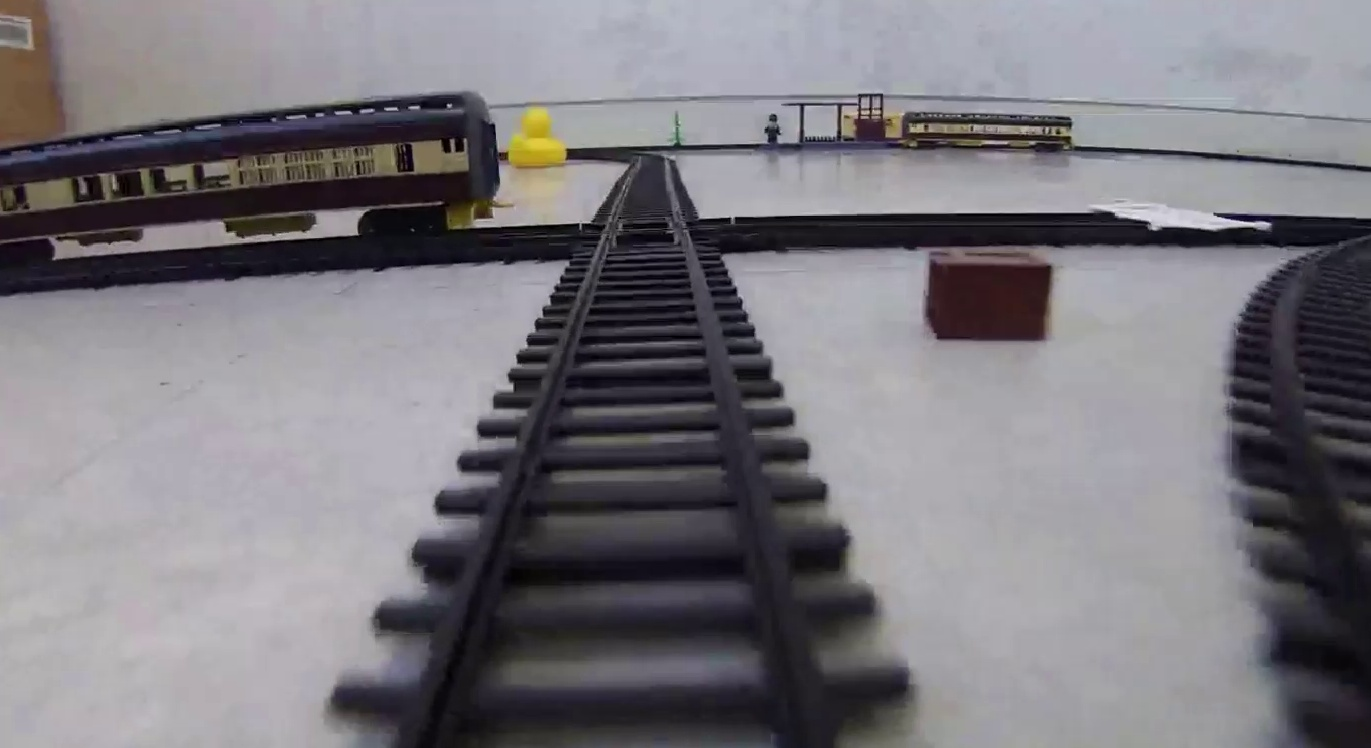box: (922, 242, 1055, 345)
web: (1091, 202, 1274, 230)
